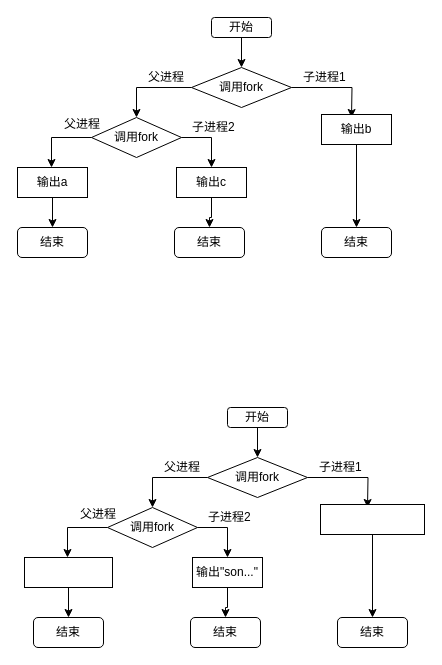
The diagram is 442 pixels wide and 665 high, and some of its shapes have lost their labels. The centre of each missing label's shape, as x and y in pixels:
输出"parent...": the point at 68,572
输出“daughter...”: the point at 372,519
